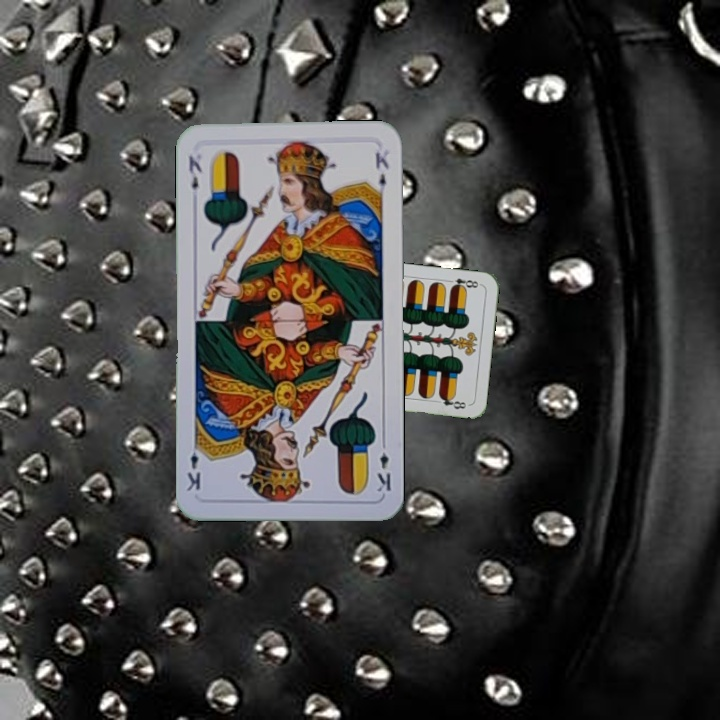E8: (443, 274, 483, 292)
EK: (374, 435, 394, 494), (184, 152, 204, 193)
